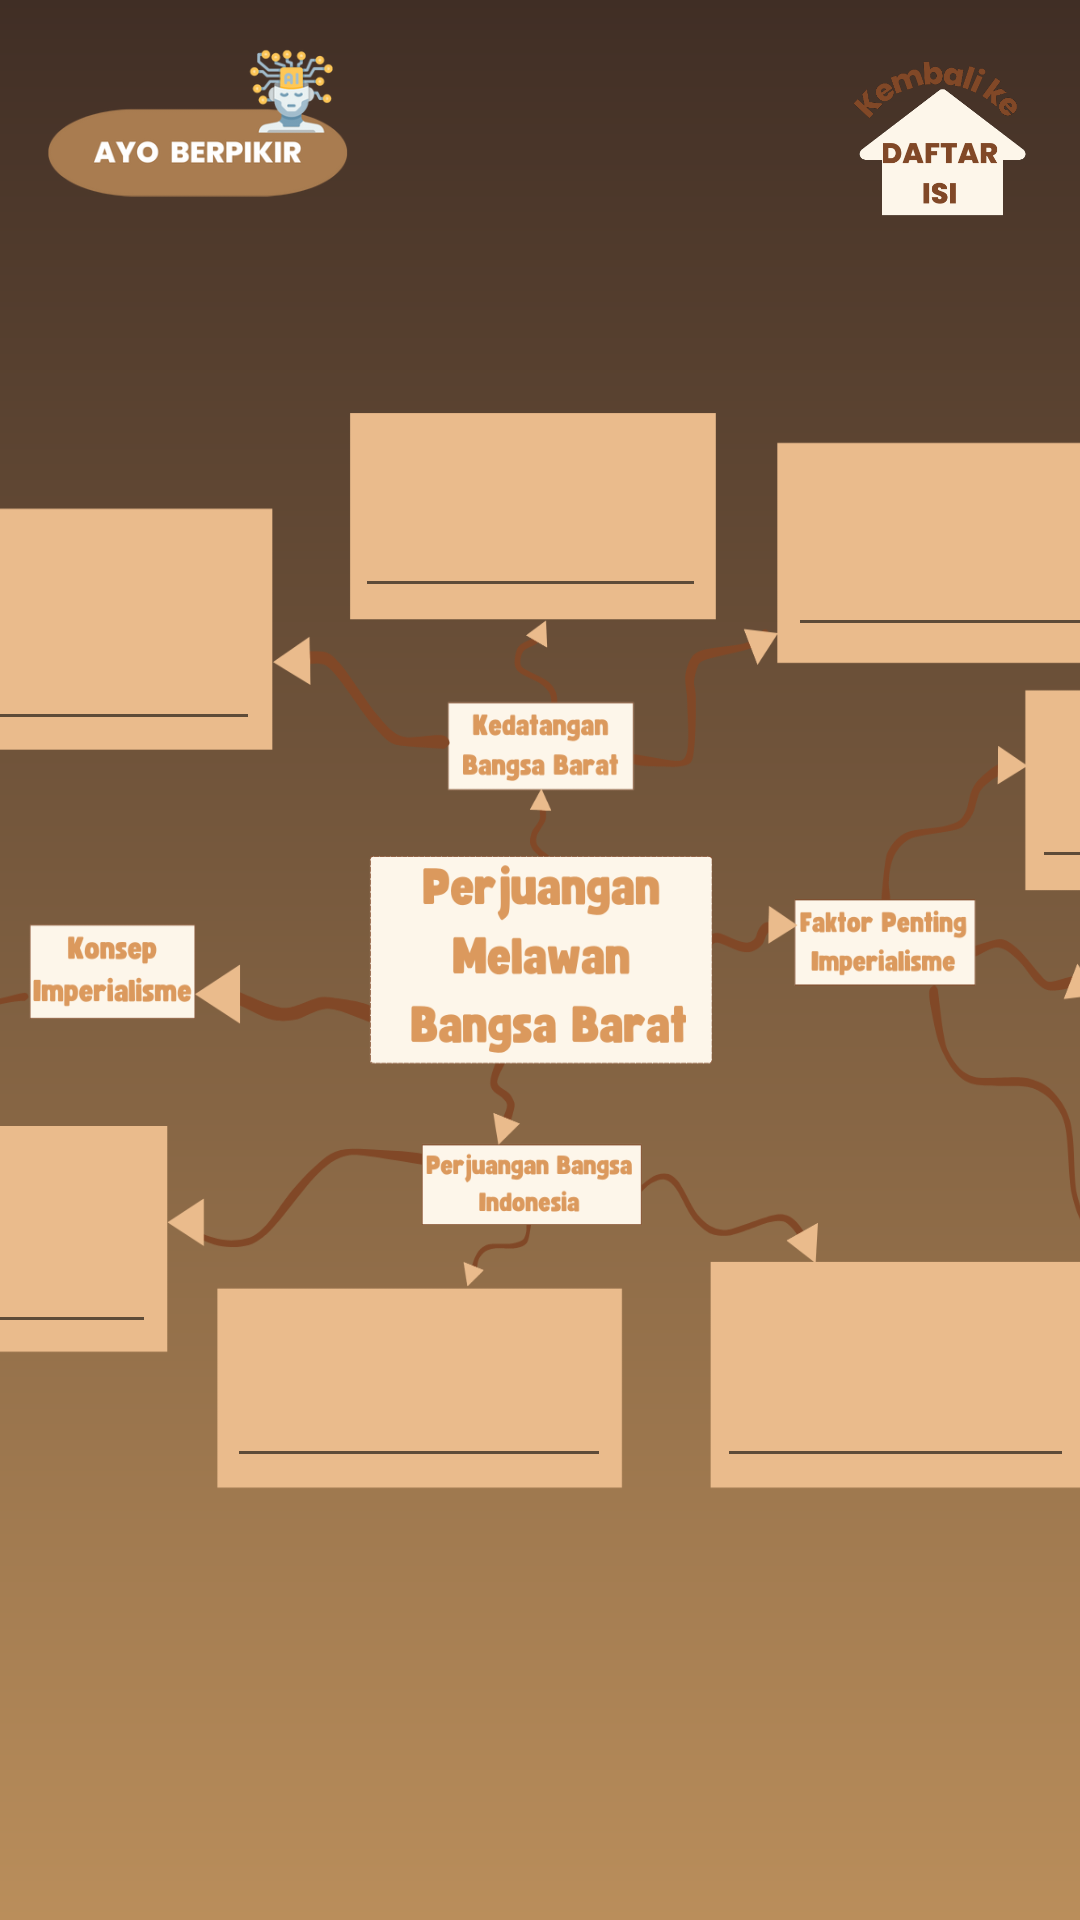

Icons on this 1080 x 1920 Android screen, each with the point to tap as point (x, y):
home: point (940, 139)
